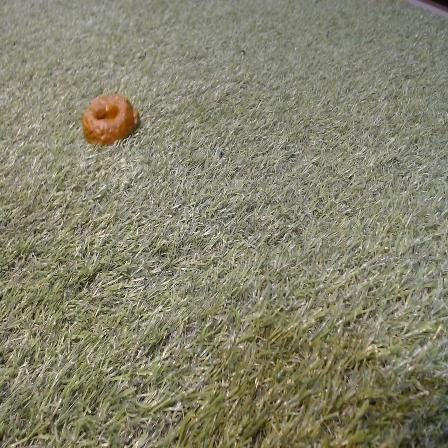dog-poop: (80, 91, 144, 145)
